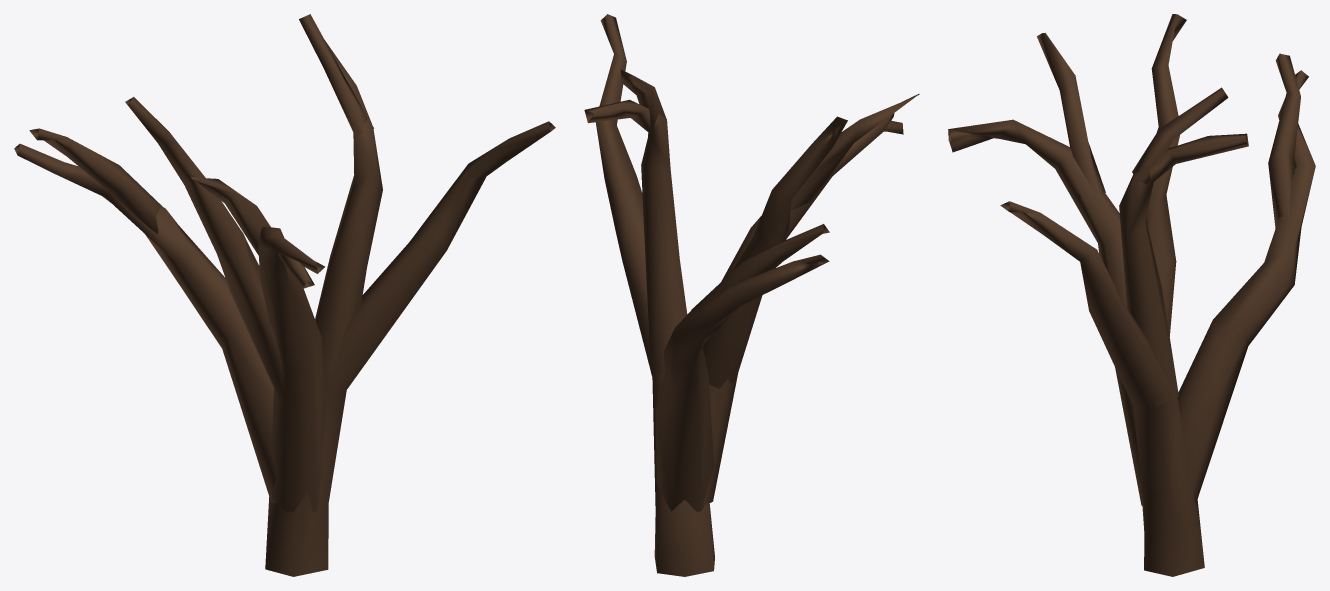
File: ArvoreDestruida1.fbx
The picture shows the model from 3 angles, left to right: view 1: azimuth 30°, elevation 25°; view 2: azimuth 150°, elevation 25°; view 3: azimuth 270°, elevation 25°; orthographic projection. The views are drawn at different scales.
Visible parts, largest first — view 1: ArvoreVariacao1_LOD0; view 2: ArvoreVariacao1_LOD0; view 3: ArvoreVariacao1_LOD0.
Boxes of the visible parts, left/top/right/bottom form: ArvoreVariacao1_LOD0: left=14, top=14, right=555, bottom=576; ArvoreVariacao1_LOD0: left=584, top=14, right=919, bottom=576; ArvoreVariacao1_LOD0: left=948, top=14, right=1315, bottom=576.
Size of what is drawn, in the model's own units: 516 by 662 by 450.
